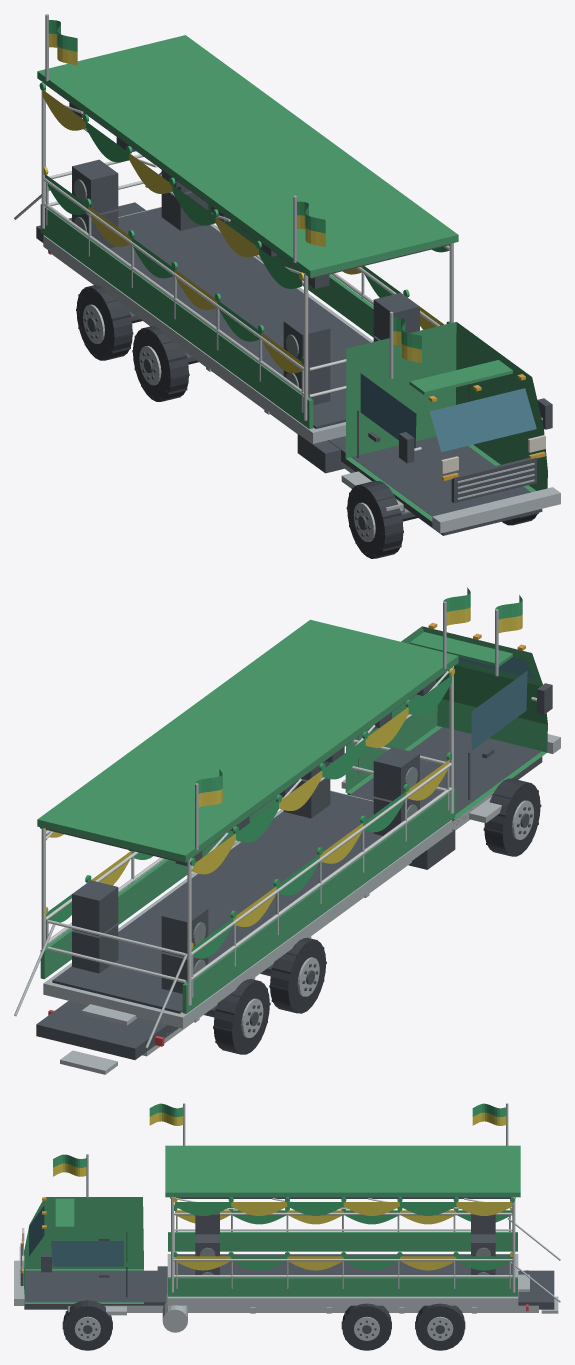
The model's file is caminhao-verde-v2.glb.
3 views of the same model, one above another, from view 1: azimuth 30°, elevation 25°; view 2: azimuth 150°, elevation 25°; view 3: azimuth 270°, elevation 25° (orthographic). The views are drawn at different scales.
Visible parts, largest first — view 1: Static_emerald, Static_charcoal, Static_steel, Static_glass, Static_chrome, Static_green, Static_yellow, Pneu_4_L, Pneu_2_L, Pneu_0_L, Bandeira_roof_0, Bandeira_cab (+2 smaller); view 2: Static_emerald, Static_charcoal, Static_steel, Static_chrome, Static_green, Static_yellow, Pneu_4_L, Pneu_0_L, Pneu_2_L, Static_glass, Bandeira_roof_0, Bandeira_roof_1 (+2 smaller); view 3: Static_emerald, Static_charcoal, Static_steel, Static_green, Static_chrome, Static_yellow, Static_glass, Pneu_5_R, Pneu_1_R, Pneu_3_R, Bandeira_roof_0, Bandeira_roof_1 (+1 smaller).
Part boxes in pixels (x1=…): Static_emerald: x1=37, y1=35, x2=547, y2=521; Static_charcoal: x1=36, y1=85, x2=552, y2=535; Static_steel: x1=14, y1=14, x2=560, y2=533; Static_glass: x1=360, y1=373, x2=536, y2=452; Static_chrome: x1=41, y1=81, x2=542, y2=451; Static_green: x1=39, y1=82, x2=449, y2=364; Static_yellow: x1=42, y1=90, x2=443, y2=373; Pneu_4_L: x1=346, y1=481, x2=403, y2=558; Pneu_2_L: x1=132, y1=326, x2=189, y2=401; Pneu_0_L: x1=76, y1=285, x2=133, y2=360; Bandeira_roof_0: x1=48, y1=20, x2=77, y2=65; Bandeira_cab: x1=393, y1=317, x2=421, y2=363; Static_emerald: x1=37, y1=619, x2=547, y2=1013; Static_charcoal: x1=36, y1=669, x2=552, y2=1059; Static_steel: x1=14, y1=601, x2=560, y2=1074; Static_chrome: x1=41, y1=666, x2=536, y2=1005; Static_green: x1=39, y1=676, x2=451, y2=958; Static_yellow: x1=44, y1=668, x2=454, y2=949; Pneu_4_L: x1=483, y1=778, x2=541, y2=856; Pneu_0_L: x1=213, y1=979, x2=270, y2=1054; Pneu_2_L: x1=269, y1=937, x2=326, y2=1013; Static_glass: x1=458, y1=657, x2=534, y2=750; Bandeira_roof_0: x1=195, y1=769, x2=222, y2=807; Bandeira_roof_1: x1=443, y1=587, x2=470, y2=625; Static_emerald: x1=24, y1=1145, x2=520, y2=1303; Static_charcoal: x1=20, y1=1197, x2=554, y2=1309; Static_steel: x1=14, y1=1103, x2=560, y2=1332; Static_green: x1=173, y1=1197, x2=514, y2=1270; Static_chrome: x1=171, y1=1197, x2=515, y2=1292; Static_yellow: x1=172, y1=1197, x2=512, y2=1270; Static_glass: x1=29, y1=1206, x2=123, y2=1266; Pneu_5_R: x1=62, y1=1300, x2=112, y2=1350; Pneu_1_R: x1=415, y1=1303, x2=465, y2=1350; Pneu_3_R: x1=341, y1=1303, x2=391, y2=1350; Bandeira_roof_0: x1=472, y1=1103, x2=506, y2=1125; Bandeira_roof_1: x1=149, y1=1103, x2=183, y2=1125.
Bounding box in the file's own units: 0.2293 × 0.4027 × 1.
